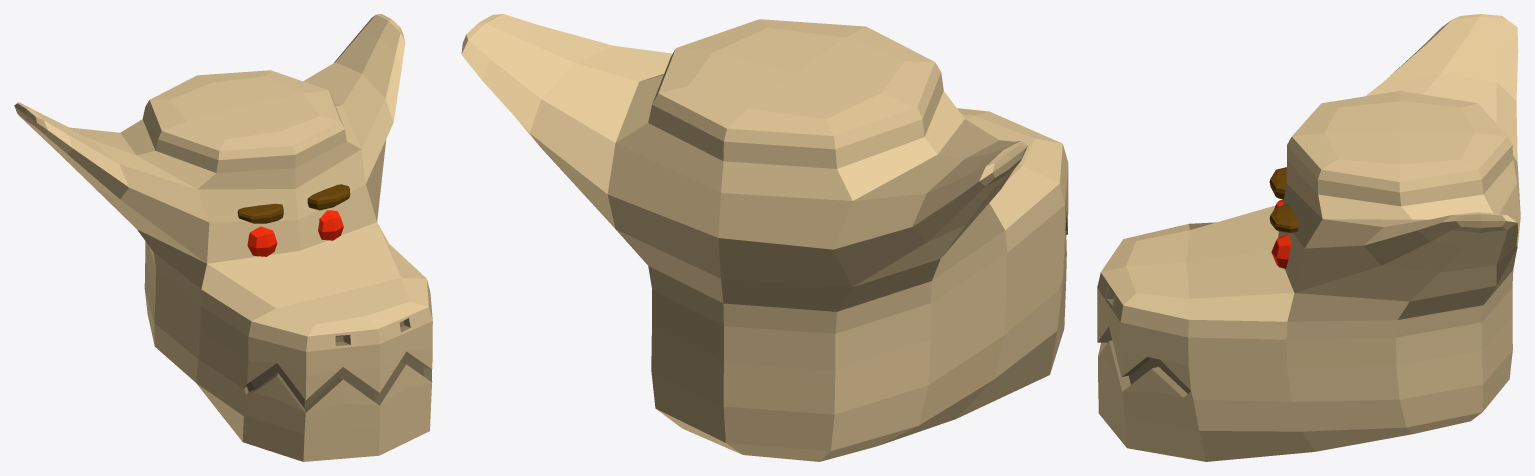
File: Mesh_DragonHead.glb
3 views of the same model, side by side, from view 1: azimuth 30°, elevation 25°; view 2: azimuth 150°, elevation 25°; view 3: azimuth 270°, elevation 25° (orthographic). The views are drawn at different scales.
Parts seen in each view (by area): view 1: Cube.029; view 2: Cube.029; view 3: Cube.029.
Part boxes in pixels (x1,y1,x2,y2): Cube.029: (14, 14, 432, 461); Cube.029: (461, 14, 1068, 461); Cube.029: (1097, 14, 1520, 461).
Size of the model in its own units: 3.87 by 2.76 by 3.44.
